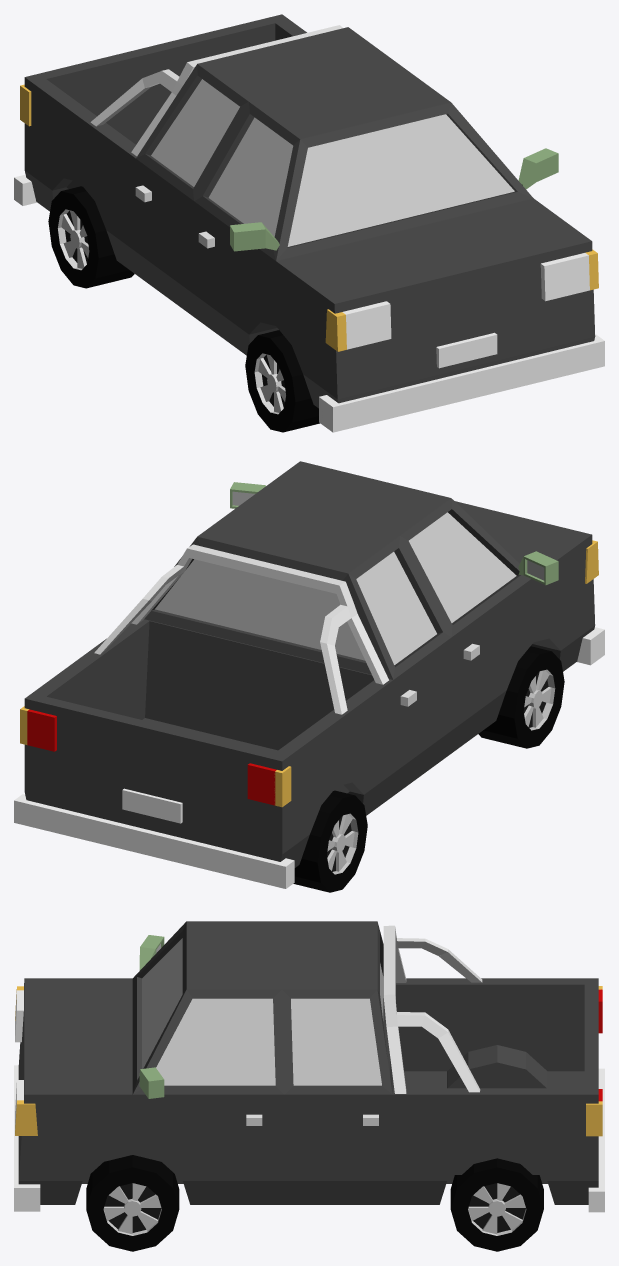
The model's file is Car-10-A.fbx.
The picture shows the model from 3 angles, top to bottom: view 1: azimuth 30°, elevation 25°; view 2: azimuth 150°, elevation 25°; view 3: azimuth 270°, elevation 25°; orthographic projection. The views are drawn at different scales.
Visible parts, largest first — view 1: Car-10, BR, FR, Head-Light, Light-Right; view 2: Car-10, FR, BR, Break-Light, Light-Right; view 3: Car-10, FL, BL, Light-Left, Head-Light.
Boxes of the visible parts, x1=… form: Car-10: x1=14, y1=14, x2=604, y2=432; BR: x1=48, y1=186, x2=134, y2=288; FR: x1=245, y1=330, x2=319, y2=432; Head-Light: x1=342, y1=253, x2=589, y2=349; Light-Right: x1=20, y1=84, x2=346, y2=351; Car-10: x1=14, y1=461, x2=604, y2=888; FR: x1=478, y1=646, x2=564, y2=748; BR: x1=293, y1=790, x2=367, y2=892; Break-Light: x1=27, y1=709, x2=276, y2=805; Light-Right: x1=274, y1=540, x2=598, y2=807; Car-10: x1=14, y1=921, x2=604, y2=1212; FL: x1=86, y1=1155, x2=179, y2=1251; BL: x1=450, y1=1158, x2=543, y2=1251; Light-Left: x1=15, y1=1100, x2=602, y2=1136; Head-Light: x1=15, y1=990, x2=23, y2=1129.
Bounding box in the file's own units: 3.25 × 2.44 × 5.54.
